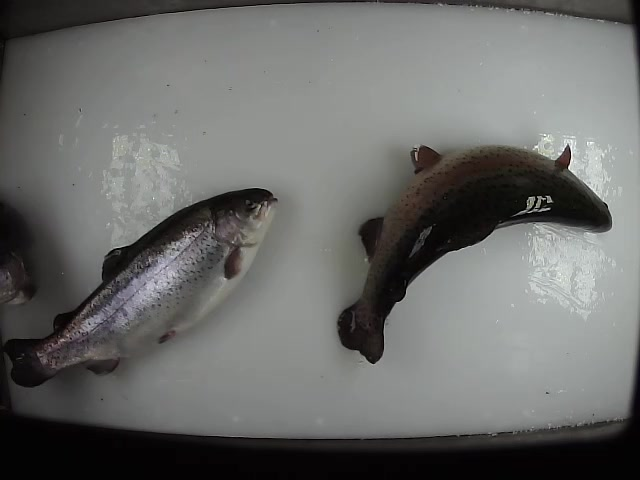fish: (334, 137, 615, 366), (3, 185, 282, 389)
